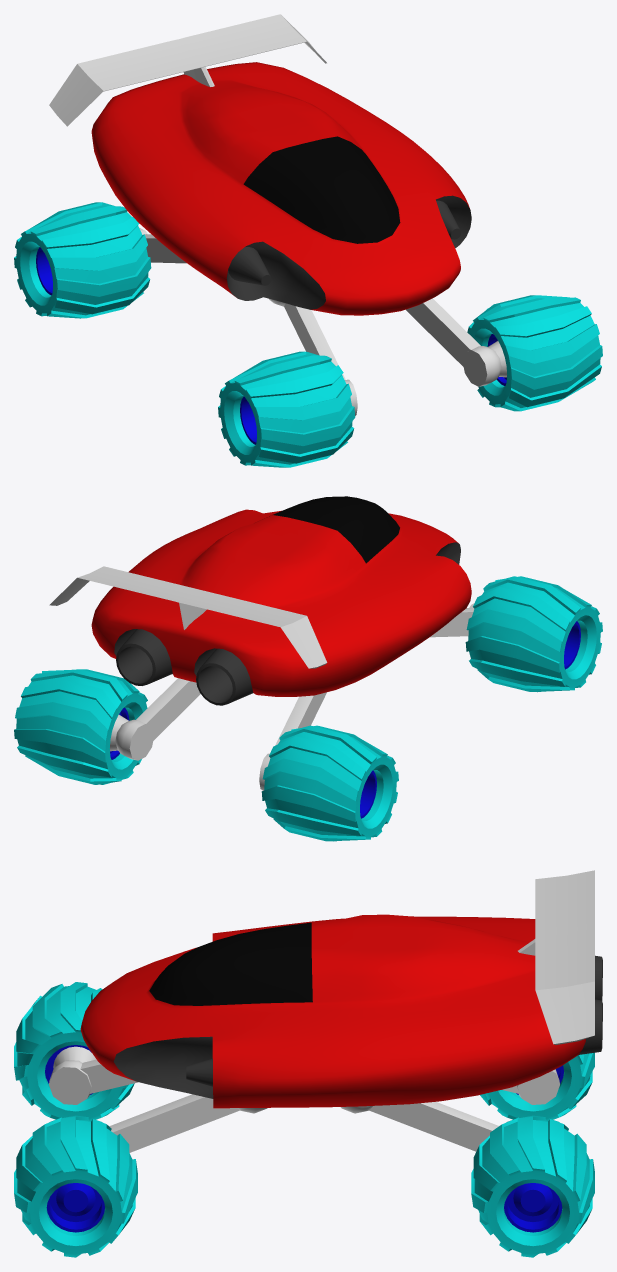
File: S_PCar.fbx
3 views of the same model, one above another, from view 1: azimuth 30°, elevation 25°; view 2: azimuth 150°, elevation 25°; view 3: azimuth 270°, elevation 25° (orthographic). The views are drawn at different scales.
Visible parts, largest first — view 1: S_Chassi, S_FRWheel, S_BRWheel, S_FLWheel, S_Spoiler, S_FLSuspension, S_FRSuspension, S_BRSuspension; view 2: S_Chassi, S_BRWheel, S_FRWheel, S_BLWheel, S_Spoiler, S_BLSuspension, S_BRSuspension, S_FRSuspension; view 3: S_Chassi, S_FLWheel, S_BLWheel, S_Spoiler, S_FRWheel, S_FLSuspension, S_BLSuspension, S_BRWheel, S_FRSuspension, S_BRSuspension.
Part boxes in pixels (bbox=[...]): S_Chassi: bbox=[91, 62, 471, 315]; S_FRWheel: bbox=[218, 351, 355, 467]; S_BRWheel: bbox=[14, 202, 151, 318]; S_FLWheel: bbox=[467, 295, 602, 411]; S_Spoiler: bbox=[49, 14, 326, 126]; S_FLSuspension: bbox=[406, 298, 506, 386]; S_FRSuspension: bbox=[269, 299, 357, 415]; S_BRSuspension: bbox=[139, 227, 186, 263]; S_Chassi: bbox=[91, 496, 471, 705]; S_BRWheel: bbox=[261, 725, 398, 841]; S_FRWheel: bbox=[465, 576, 602, 692]; S_BLWheel: bbox=[14, 669, 147, 784]; S_Spoiler: bbox=[49, 566, 327, 668]; S_BLSuspension: bbox=[109, 678, 200, 760]; S_BRSuspension: bbox=[259, 692, 326, 790]; S_FRSuspension: bbox=[430, 603, 474, 637]; S_Chassi: bbox=[80, 914, 602, 1108]; S_FLWheel: bbox=[14, 1115, 137, 1257]; S_BLWheel: bbox=[471, 1115, 594, 1257]; S_Spoiler: bbox=[518, 870, 594, 1044]; S_FRWheel: bbox=[14, 982, 134, 1121]; S_FLSuspension: bbox=[109, 1094, 267, 1152]; S_BLSuspension: bbox=[340, 1102, 498, 1151]; S_BRWheel: bbox=[480, 1052, 594, 1121]; S_FRSuspension: bbox=[49, 1046, 138, 1104]; S_BRSuspension: bbox=[502, 1069, 559, 1104].
Bounding box in the file's own units: 520 × 325 × 694.
